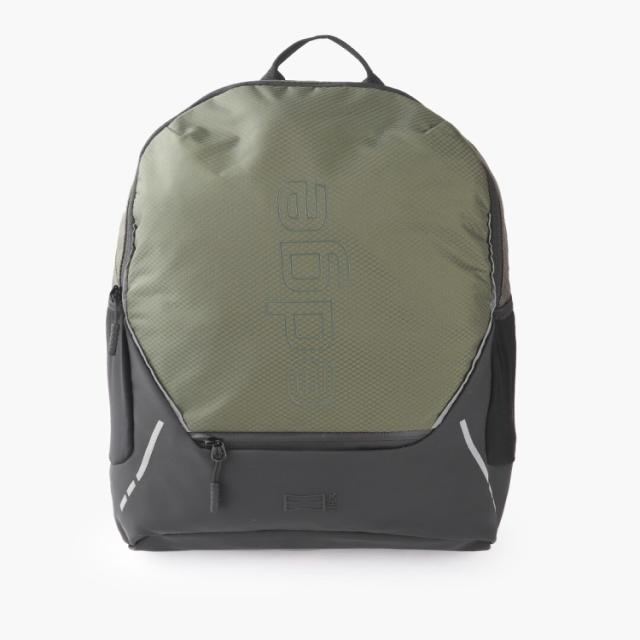backpack: (105, 35, 518, 553)
